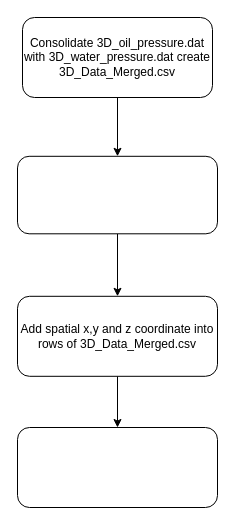
This 235x525 diagram has some shape labels left out. The centre of each missing label's shape, as x and y in pixels:
"Consolidate and append 3D_water_saturation.dat with 3D_Data_Merged.csv" goes at pixel 117 194.
"Split 3D_Data_Merged.csv into 600 files with 125 rows of data each file" goes at pixel 117 467.
